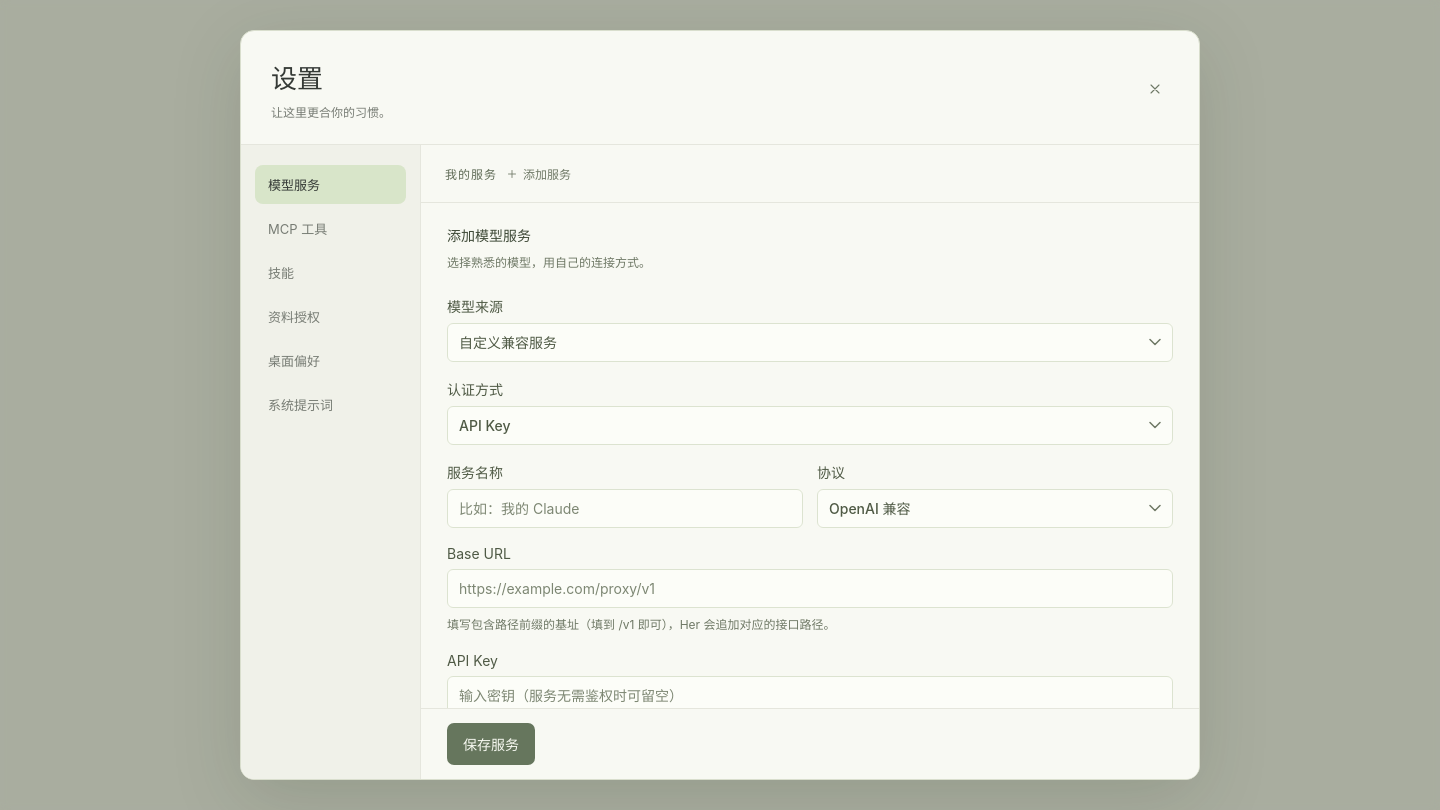
Test: previews unsaved text with sources and conditions without saving it
Click the tab "系统提示词" at [330, 404], box 255,385 -> 406,424
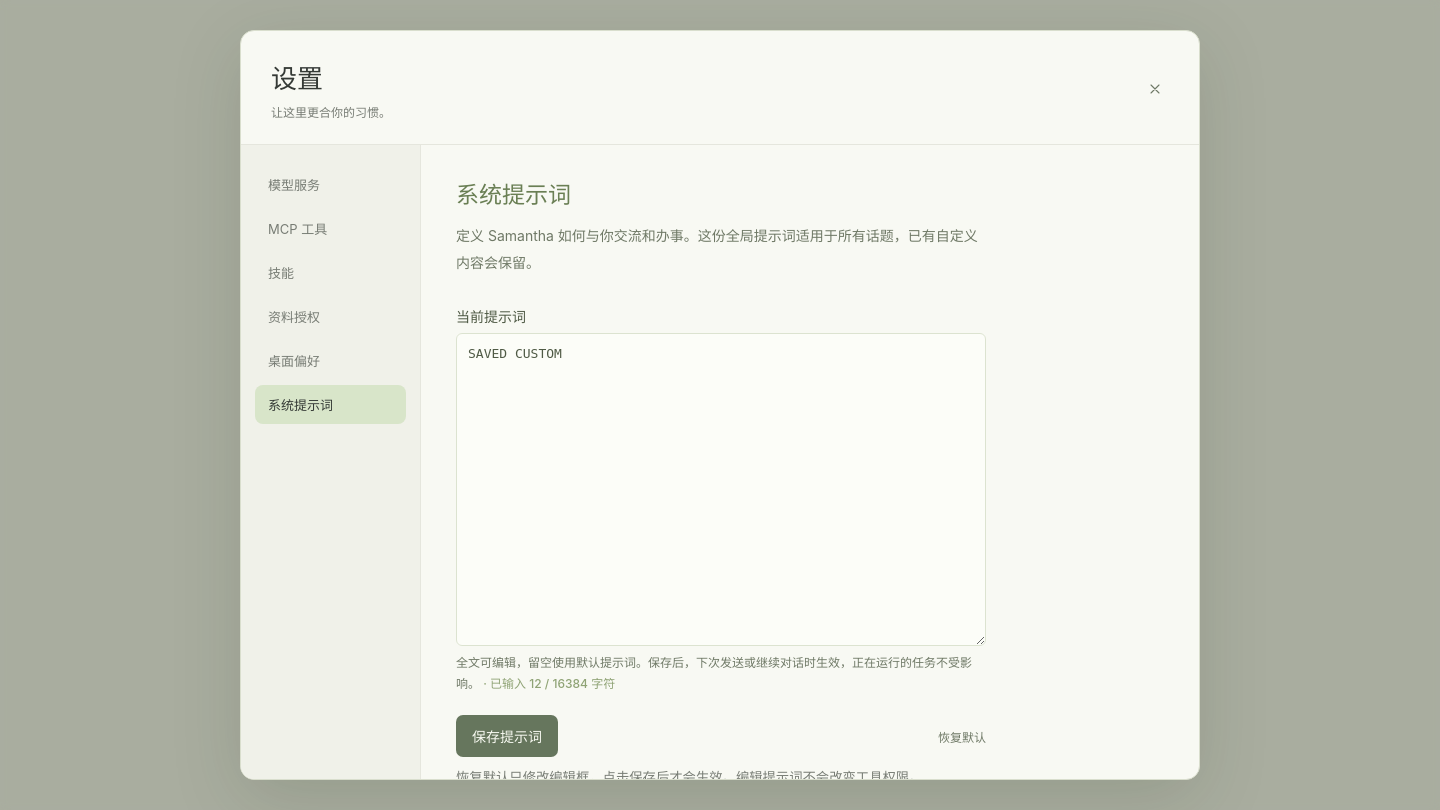
Result: the text box named "系统提示词" holds "SAVED CUSTOM"
Replace the text in the text box named "系统提示词" with "UNSAVED EDIT" at [721, 490], box 456,333 -> 986,646
(page scrolled)
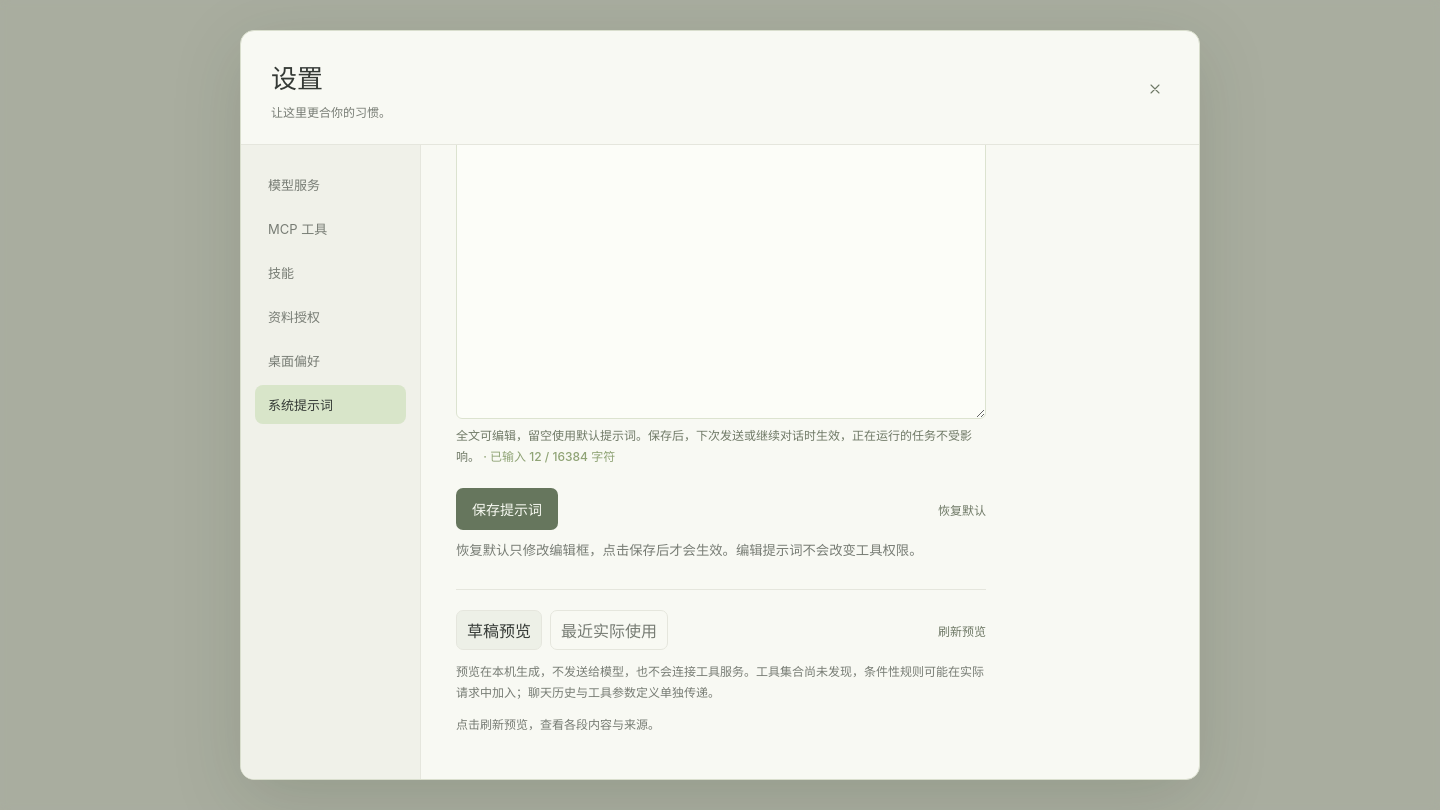
Click the button "刷新预览" at [962, 630], box 938,615 -> 986,646
(page scrolled)
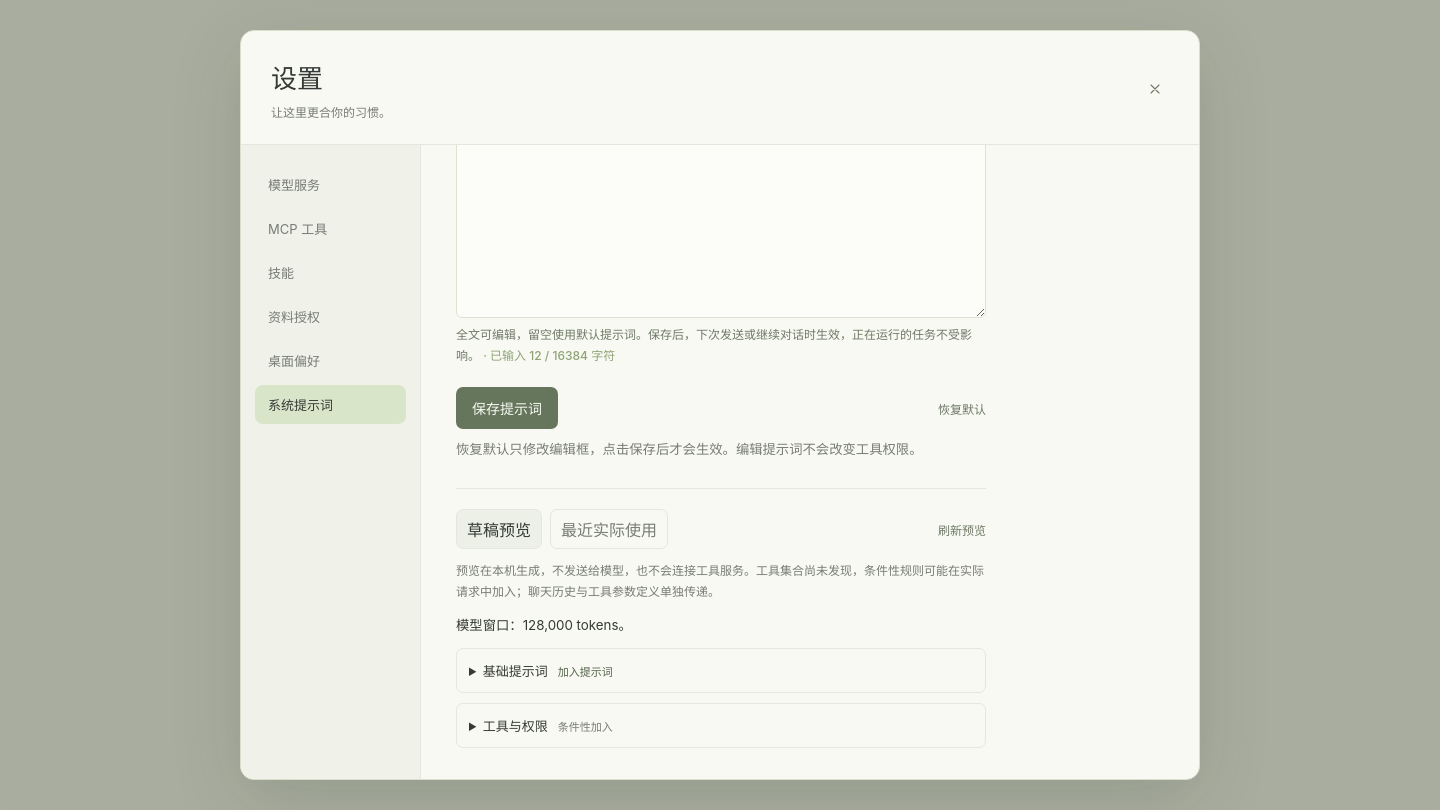
Result: the text "条件性加入" is shown at 558,720 -> 613,734
